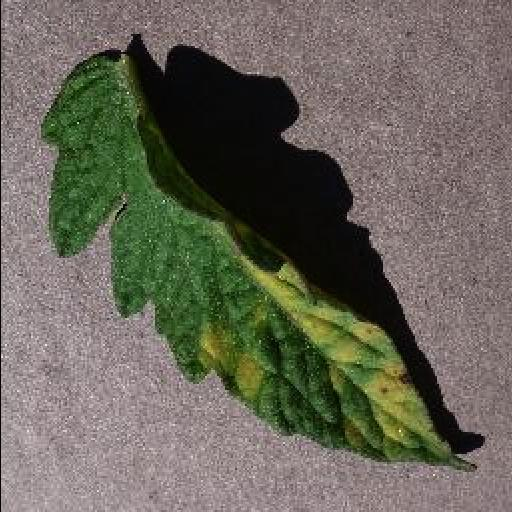disease_tomato: (37, 48, 475, 476)
